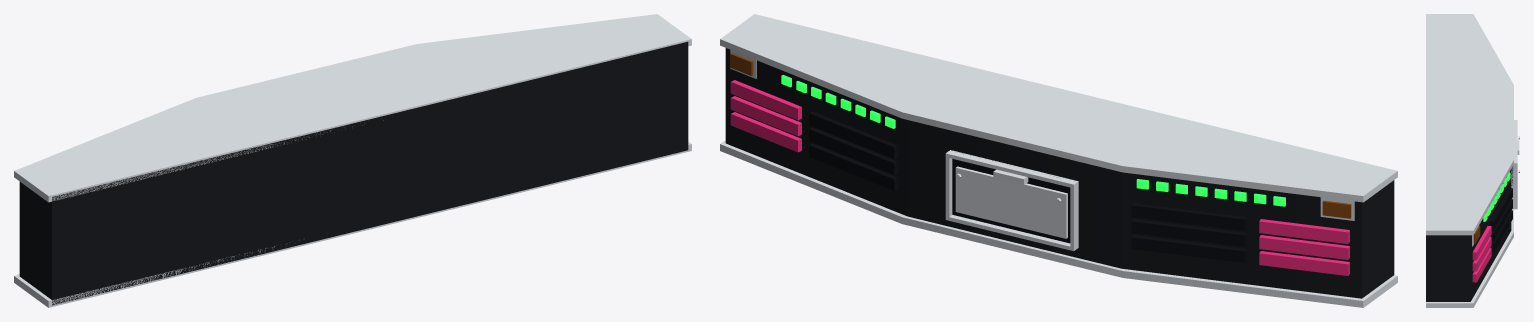
File: fb_fan_stripe.glb
The picture shows the model from 3 angles, left to right: view 1: azimuth 30°, elevation 25°; view 2: azimuth 150°, elevation 25°; view 3: azimuth 270°, elevation 25°; orthographic projection. The views are drawn at different scales.
Parts seen in each view (by area): view 1: fb_fan_stripe_TOP_chrome, fb_fan_stripe_MID_deco_body, fb_fan_stripe_TOP_deco_body, fb_fan_stripe_BOT_deco_body, fb_fan_stripe_BOT_chrome; view 2: fb_fan_stripe_TOP_chrome, fb_fan_stripe_TOP_deco_body, fb_fan_stripe_MID_deco_body, fb_fan_stripe_BOT_deco_body, fb_fan_stripe_MID_deco_trim, fb_fan_stripe_MID_paint_pink, fb_fan_stripe_BOT_chrome, fb_fan_stripe_CEN_deco_plate, fb_fan_stripe_CEN_chrome, fb_fan_stripe_TOP_deco_led, fb_fan_stripe_CEN_deco_trim, fb_fan_stripe_TOP_deco_signal; view 3: fb_fan_stripe_TOP_chrome, fb_fan_stripe_MID_deco_body, fb_fan_stripe_TOP_deco_body, fb_fan_stripe_BOT_deco_body, fb_fan_stripe_MID_deco_trim, fb_fan_stripe_BOT_chrome, fb_fan_stripe_MID_paint_pink, fb_fan_stripe_CEN_chrome, fb_fan_stripe_TOP_deco_led, fb_fan_stripe_TOP_deco_signal.
Boxes of the visible parts, box(x1,y1,x2,y2) form: fb_fan_stripe_TOP_chrome: box(14, 14, 691, 202); fb_fan_stripe_MID_deco_body: box(19, 75, 688, 282); fb_fan_stripe_TOP_deco_body: box(19, 41, 688, 229); fb_fan_stripe_BOT_deco_body: box(19, 128, 688, 305); fb_fan_stripe_BOT_chrome: box(14, 142, 691, 307); fb_fan_stripe_TOP_chrome: box(720, 14, 1397, 220); fb_fan_stripe_TOP_deco_body: box(725, 48, 1394, 228); fb_fan_stripe_MID_deco_body: box(725, 73, 1394, 281); fb_fan_stripe_BOT_deco_body: box(725, 126, 1394, 298); fb_fan_stripe_MID_deco_trim: box(809, 111, 1246, 263); fb_fan_stripe_MID_paint_pink: box(730, 80, 1349, 275); fb_fan_stripe_BOT_chrome: box(720, 140, 1397, 307); fb_fan_stripe_CEN_deco_plate: box(955, 166, 1067, 238); fb_fan_stripe_CEN_chrome: box(945, 150, 1078, 251); fb_fan_stripe_TOP_deco_led: box(781, 75, 1285, 206); fb_fan_stripe_CEN_deco_trim: box(952, 154, 1070, 243); fb_fan_stripe_TOP_deco_signal: box(730, 53, 1351, 218); fb_fan_stripe_TOP_chrome: box(1426, 14, 1513, 246); fb_fan_stripe_MID_deco_body: box(1426, 182, 1511, 290); fb_fan_stripe_TOP_deco_body: box(1426, 169, 1511, 253); fb_fan_stripe_BOT_deco_body: box(1426, 222, 1511, 301); fb_fan_stripe_MID_deco_trim: box(1490, 188, 1512, 251); fb_fan_stripe_BOT_chrome: box(1426, 209, 1513, 307); fb_fan_stripe_MID_paint_pink: box(1472, 226, 1491, 282); fb_fan_stripe_CEN_chrome: box(1511, 120, 1519, 209); fb_fan_stripe_TOP_deco_led: box(1483, 172, 1510, 221); fb_fan_stripe_TOP_deco_signal: box(1473, 226, 1480, 243).
Size of the model in its own units: 2.53 by 0.42 by 0.463.
